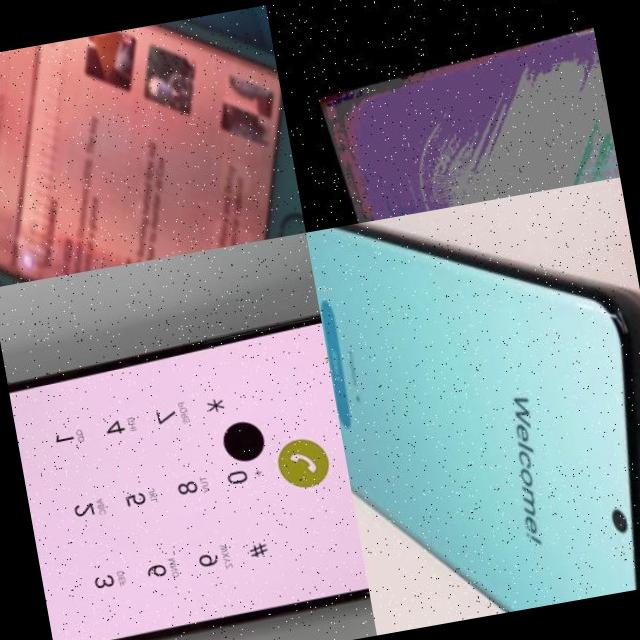dead pixel: (0, 5, 304, 288), (203, 404, 288, 481)
